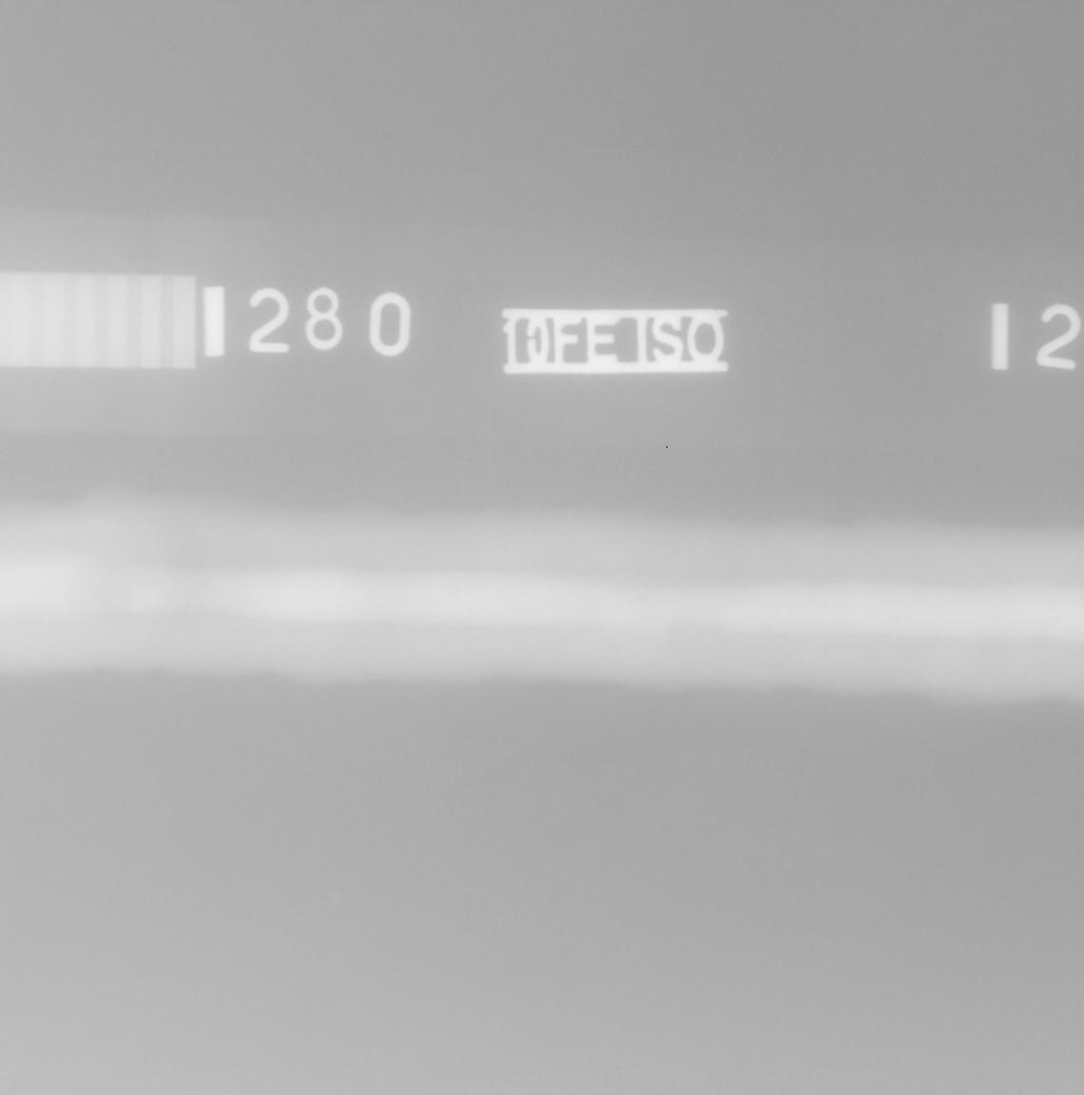Pore/Porosity: (637, 596, 646, 602), (623, 567, 628, 573)
